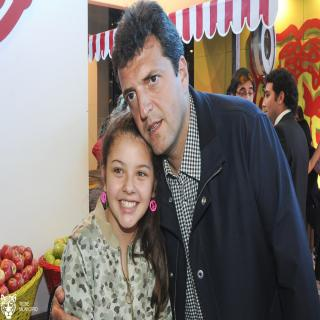Apple: (0, 244, 38, 300), (42, 236, 70, 269), (8, 277, 18, 292)
